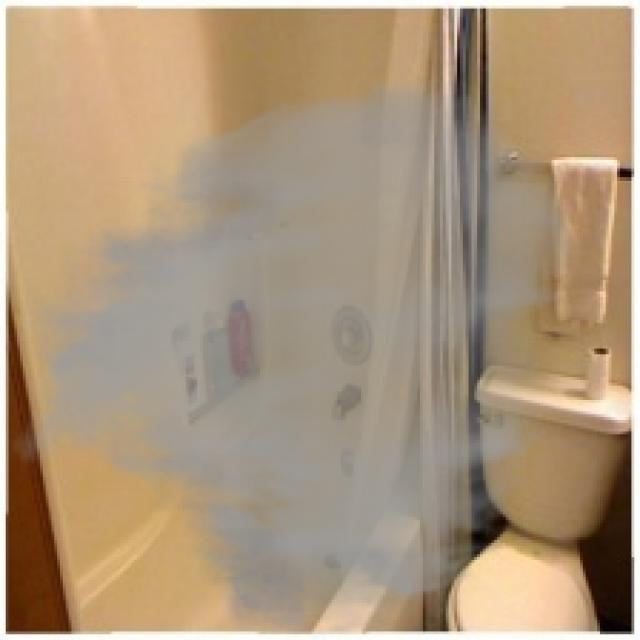Smoke: (8, 72, 580, 638)
